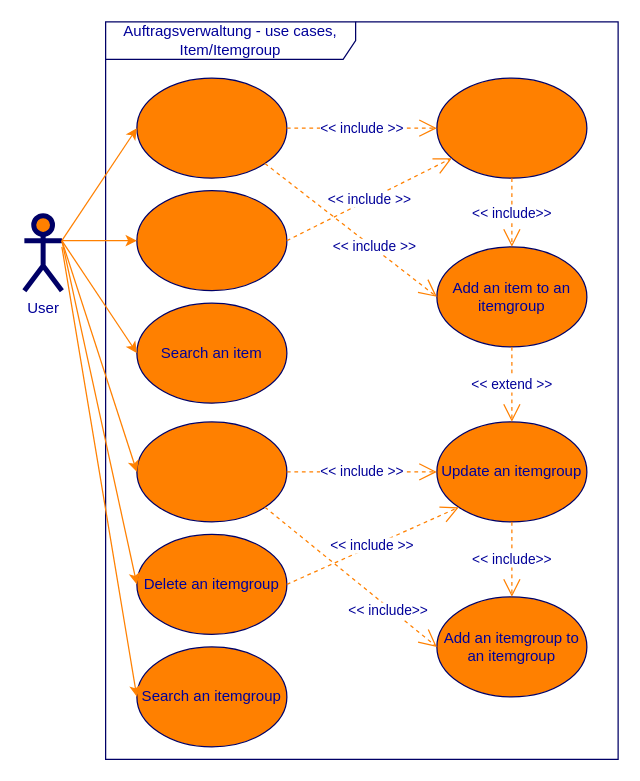
Some shapes in this 640 by 781 pixel diagram are drawn without their labels. The centre of each missing label's shape, as x and y in pixels:
"Add an item" goes at (211,127).
"Add an itemgroup" goes at (211,471).
"Delete an item" goes at (211,240).
"Update an item" goes at (511,127).
